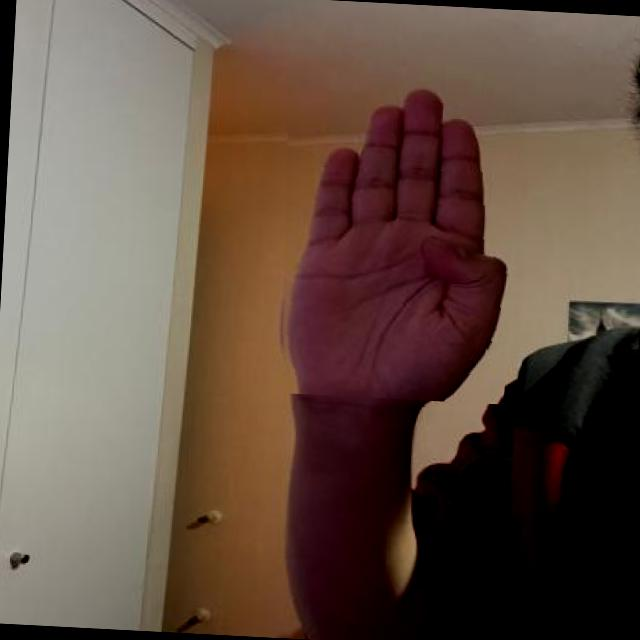B: (272, 76, 520, 405)
